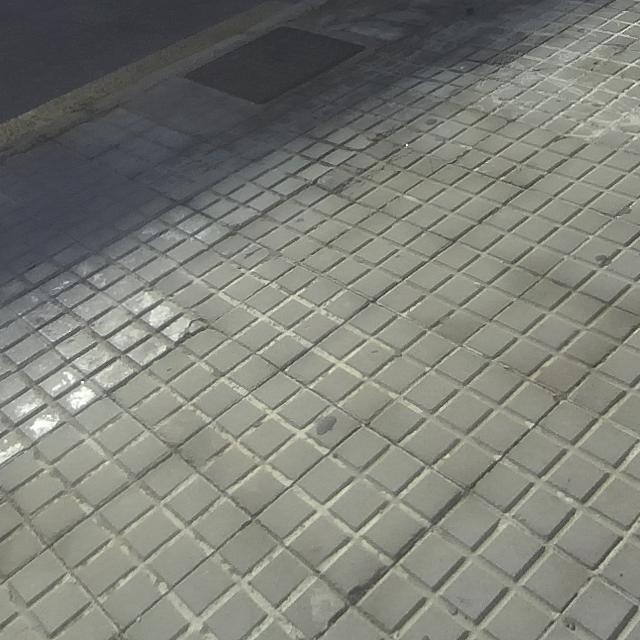calcada_quebrada: (157, 308, 209, 346)
